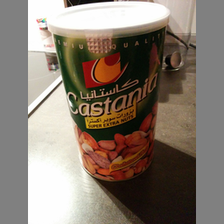nuts: (48, 1, 171, 183)
